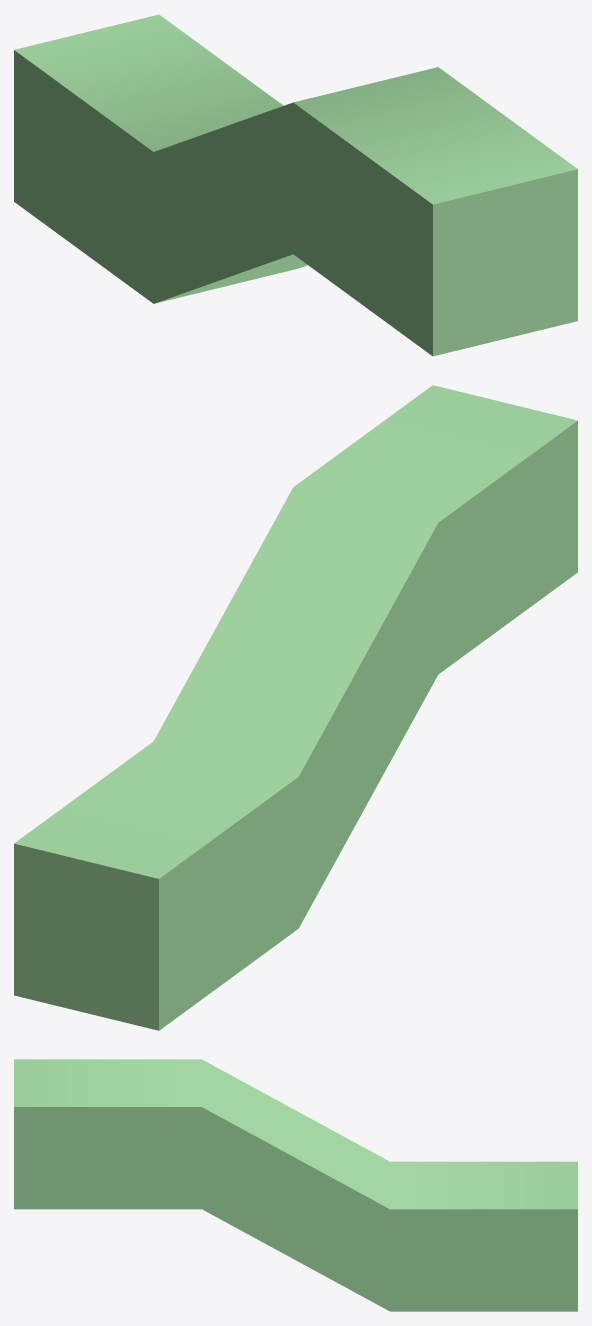
Rendered from map_up.fbx.
The picture shows the model from 3 angles, top to bottom: view 1: azimuth 30°, elevation 25°; view 2: azimuth 150°, elevation 25°; view 3: azimuth 270°, elevation 25°; orthographic projection. The views are drawn at different scales.
Visible parts, largest first — view 1: pCube4; view 2: pCube4; view 3: pCube4.
Part boxes in pixels (<box>): pCube4: <box>14,14,577,356</box>; pCube4: <box>14,385,577,1030</box>; pCube4: <box>14,1059,577,1311</box>.
Size of the model in its own units: 250 by 500 by 1250.
